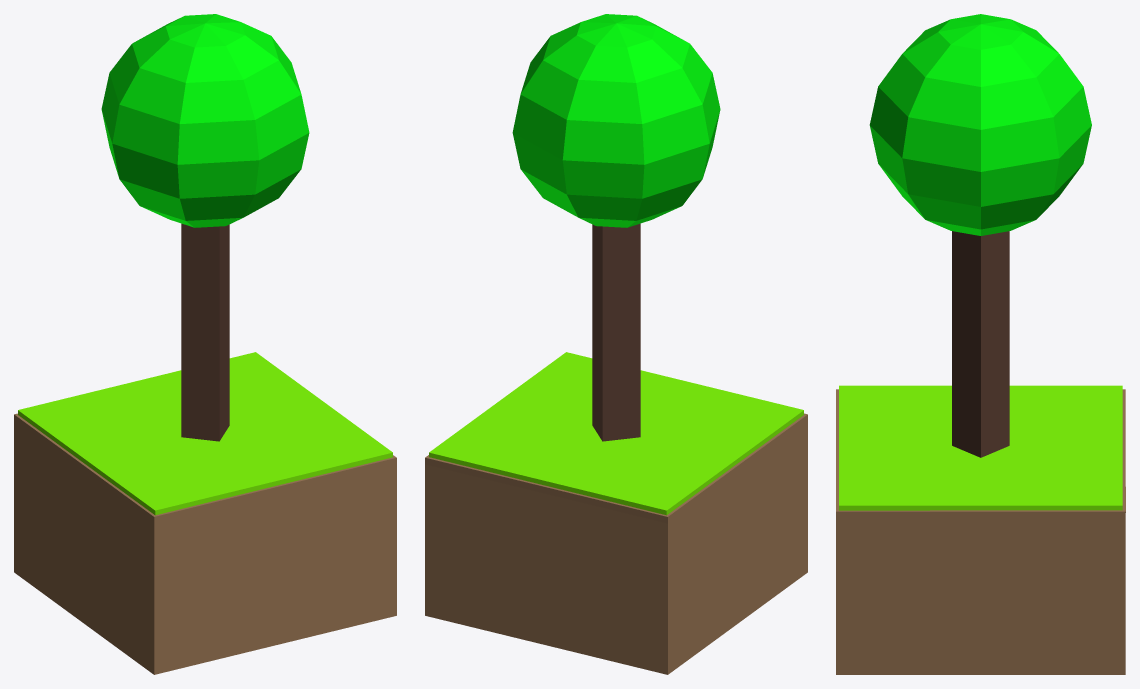
The model's file is Tree_Tall_Tile.glb.
3 views of the same model, side by side, from view 1: azimuth 30°, elevation 25°; view 2: azimuth 150°, elevation 25°; view 3: azimuth 270°, elevation 25° (orthographic). The views are drawn at different scales.
Visible parts, largest first — view 1: Grass, Sphere, Cylinder; view 2: Grass, Sphere, Cylinder; view 3: Grass, Sphere, Cylinder.
Boxes of the visible parts, box(x1,y1,x2,y2) form: Grass: box(14, 352, 396, 674); Sphere: box(101, 14, 309, 227); Cylinder: box(181, 223, 229, 441); Grass: box(425, 352, 807, 674); Sphere: box(512, 14, 720, 227); Cylinder: box(592, 223, 640, 441); Grass: box(836, 385, 1125, 674); Sphere: box(869, 14, 1091, 235); Cylinder: box(952, 231, 1009, 457).
Size of the model in its own units: 1 by 2.25 by 1.
